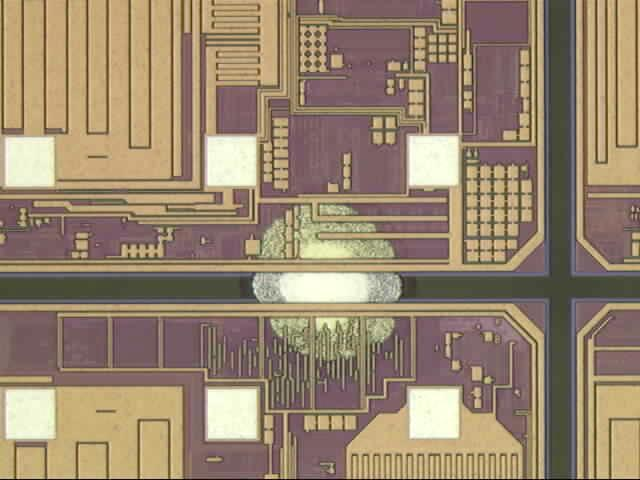BLOCK ETCH: (236, 192, 420, 376)
